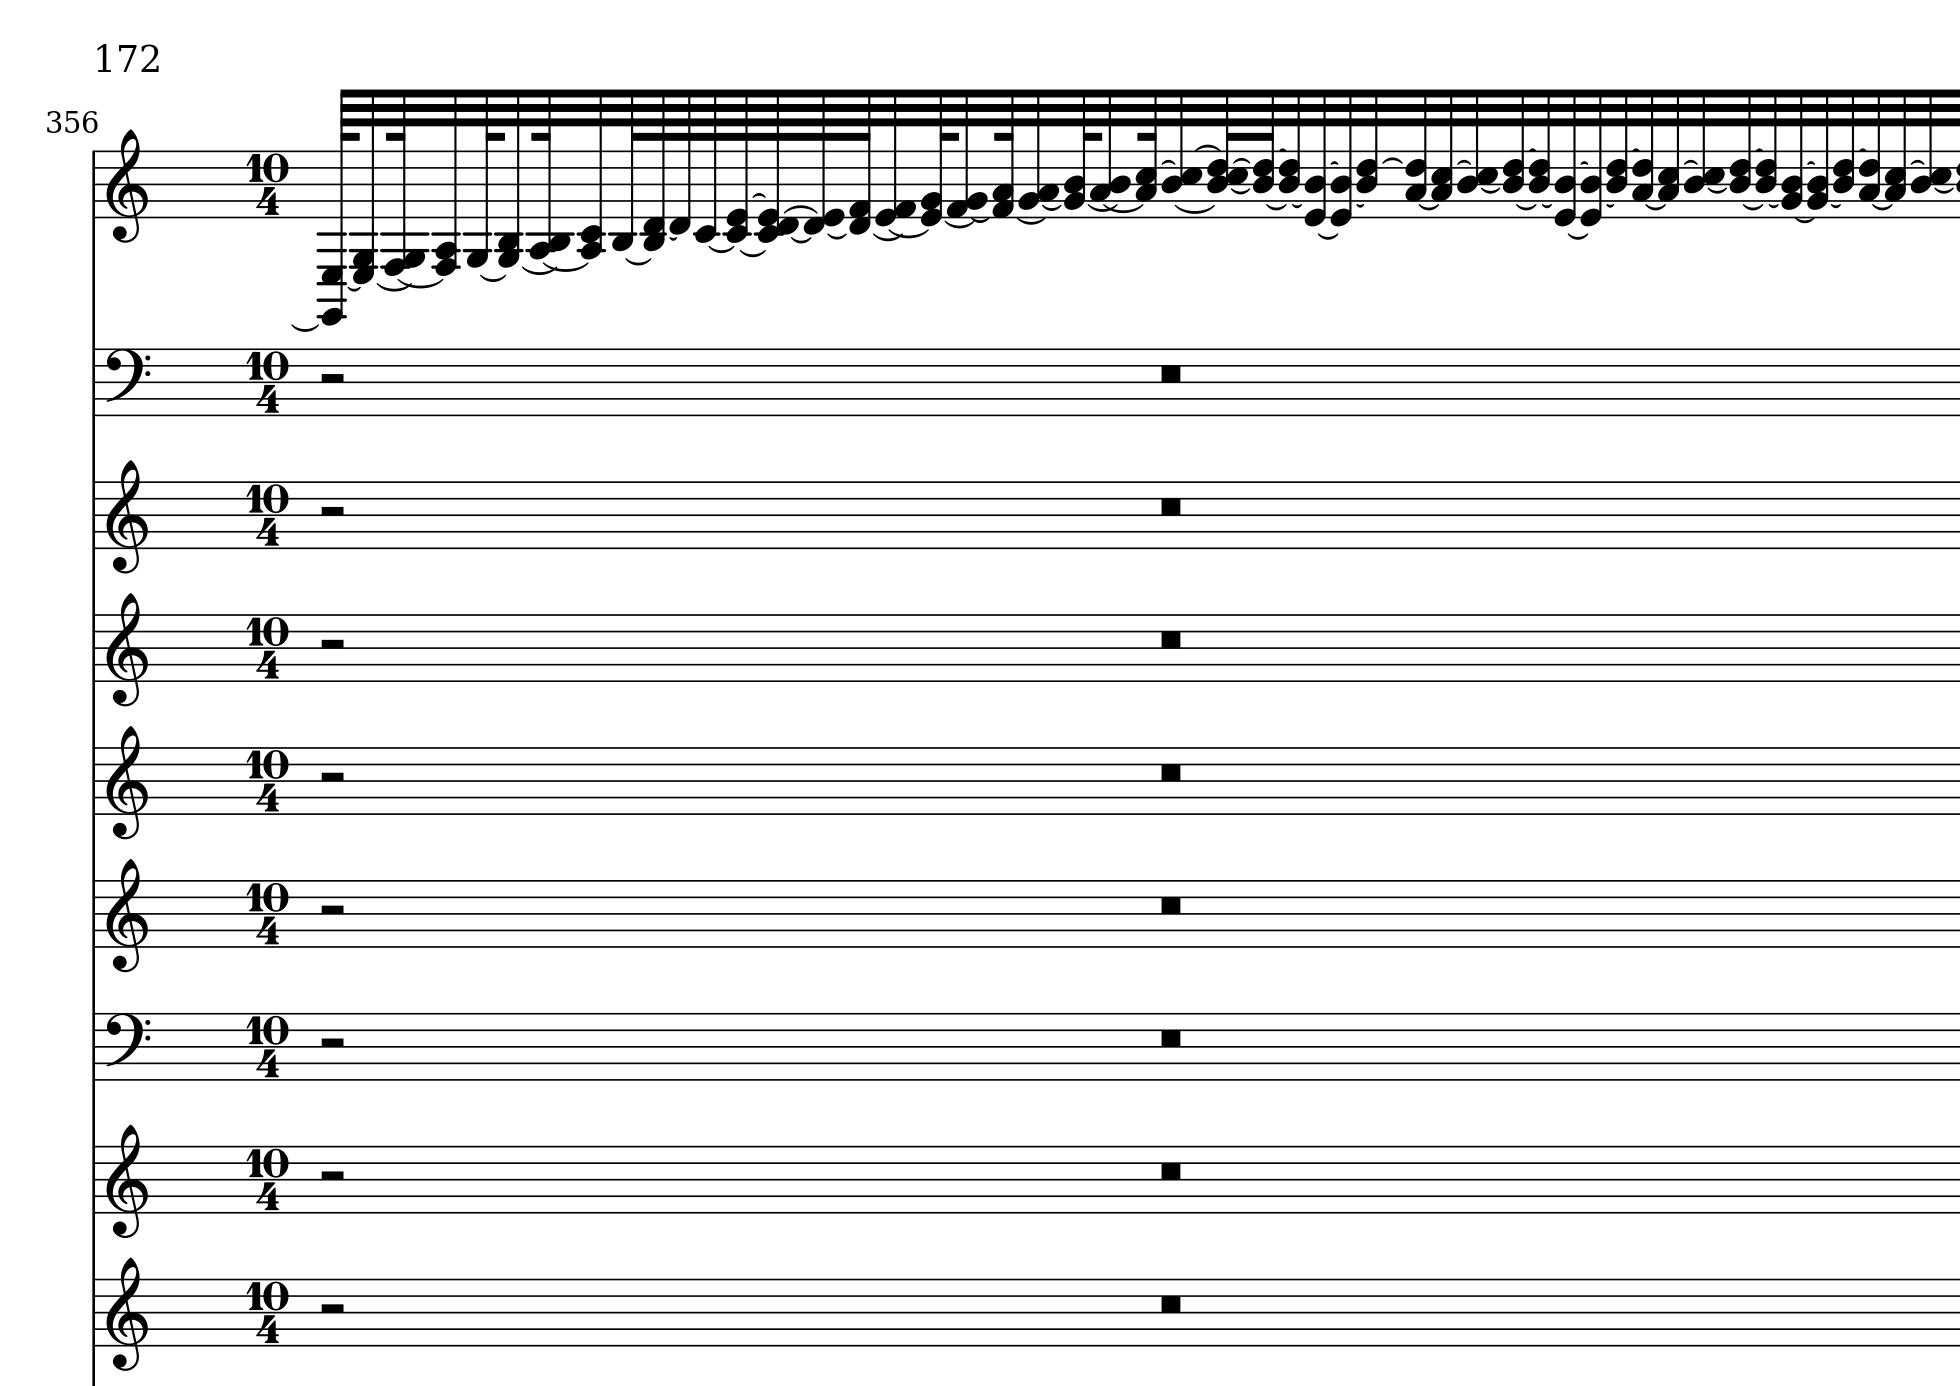0: (264, 879, 289, 913), (264, 150, 289, 183), (264, 346, 289, 379), (264, 613, 289, 646), (264, 1012, 289, 1045), (264, 1144, 289, 1177), (264, 481, 289, 513), (264, 747, 289, 778), (264, 1278, 289, 1309)
1: (244, 150, 265, 184), (244, 1012, 265, 1047), (244, 1144, 265, 1179), (244, 1278, 265, 1312), (244, 348, 265, 381), (244, 481, 265, 514), (244, 747, 265, 780), (244, 880, 265, 913), (244, 613, 264, 646), (94, 40, 112, 73)
2: (138, 42, 160, 72)
3: (43, 106, 63, 133)
4: (250, 183, 283, 217), (250, 1311, 283, 1345), (250, 514, 283, 547), (250, 646, 283, 679), (250, 913, 283, 946), (252, 381, 283, 415), (252, 1177, 283, 1212), (252, 780, 283, 813), (253, 1045, 282, 1078)
5: (61, 106, 79, 135)
6: (79, 106, 99, 135)
7: (117, 40, 138, 73)
Fclef: (103, 345, 151, 417), (103, 1009, 151, 1081)
Gclef: (103, 1120, 151, 1240), (103, 1255, 151, 1372), (105, 589, 151, 709), (105, 457, 151, 576), (105, 723, 151, 841), (103, 127, 150, 244), (105, 856, 151, 973)
Rests2: (315, 367, 349, 387), (315, 501, 349, 520), (315, 634, 349, 654), (315, 766, 349, 786), (315, 900, 349, 919), (315, 1032, 349, 1051), (315, 1165, 349, 1183), (315, 1299, 349, 1315)
Single_barline: (87, 1012, 103, 1078), (87, 349, 103, 414), (87, 613, 102, 681), (87, 481, 102, 547), (87, 880, 102, 946), (87, 1146, 102, 1212), (87, 748, 102, 813), (87, 150, 100, 217), (87, 1279, 100, 1345)
Slur: (1173, 202, 1218, 214), (405, 279, 442, 289), (1740, 201, 1768, 211), (291, 321, 319, 331), (555, 262, 588, 271), (1114, 204, 1146, 213), (522, 265, 553, 274), (1192, 142, 1222, 151), (375, 282, 405, 291), (625, 256, 652, 265), (1417, 202, 1441, 211), (1644, 202, 1668, 211), (1870, 202, 1894, 211), (1018, 216, 1047, 223), (1381, 154, 1404, 163), (1794, 214, 1816, 223), (1230, 187, 1254, 195), (1566, 231, 1590, 238), (1044, 205, 1063, 211)
TimeSig: (244, 1144, 292, 1212), (244, 877, 291, 946), (244, 1276, 291, 1345), (244, 481, 292, 547), (244, 348, 291, 415), (246, 745, 291, 814), (246, 150, 291, 217), (246, 613, 291, 681), (246, 1012, 291, 1078)
